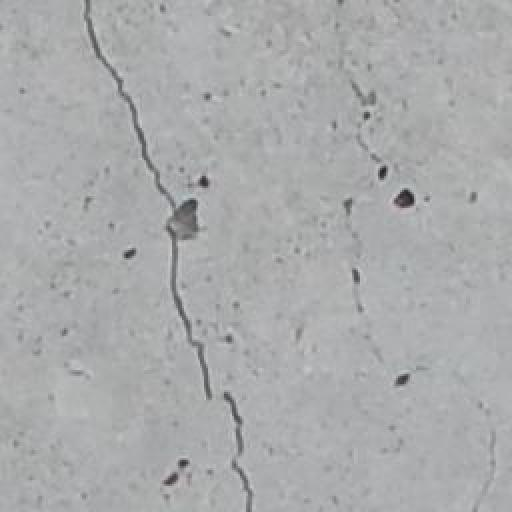spalling: (70, 9, 279, 507)
